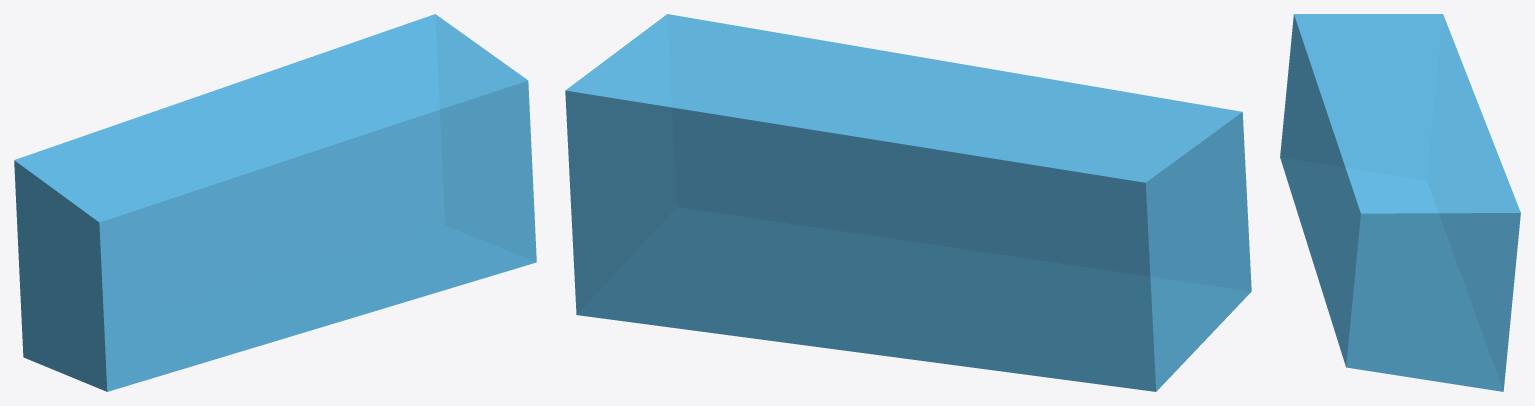
Rendered from Event_420604493_HErechit_21.fbx.
3 renders of one model, left to right at view 1: azimuth 30°, elevation 25°; view 2: azimuth 150°, elevation 25°; view 3: azimuth 270°, elevation 25°, orthographic. The views are drawn at different scales.
Visible parts, largest first — view 1: Model; view 2: Model; view 3: Model.
Boxes of the visible parts, left/top/right/bottom form: Model: left=14, top=14, right=536, bottom=391; Model: left=565, top=14, right=1251, bottom=391; Model: left=1280, top=14, right=1520, bottom=391.
Size of the model in its own units: 0.7493 by 0.3134 by 0.3821.
